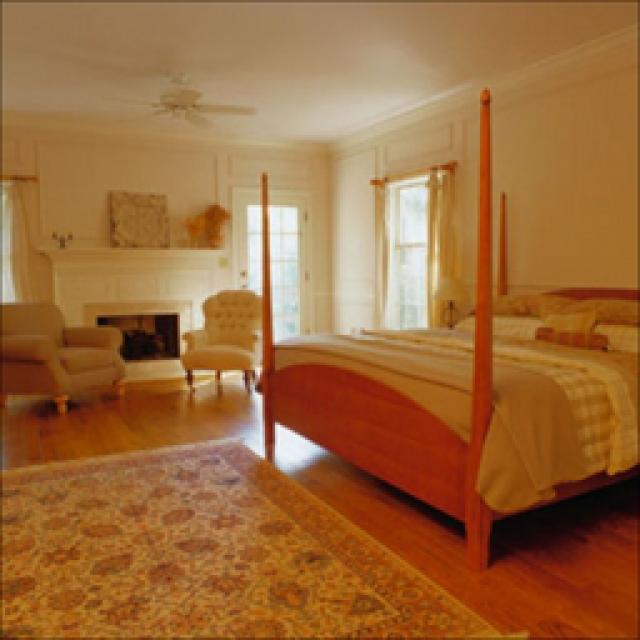2001: (228, 188, 305, 340), (378, 168, 445, 328)
armchair crop: (0, 298, 122, 410), (178, 288, 268, 392)
bed -occluded-: (258, 82, 635, 565)
bouquet: (182, 205, 228, 245)
ceiling beam: (0, 2, 632, 142)
fan lamp: (98, 68, 252, 122)
fireplace mantle: (92, 310, 175, 358)
painting crop: (105, 188, 168, 245)
pillow occluded: (468, 290, 570, 315), (530, 310, 595, 340), (555, 298, 632, 322)
rug -partially obscured-: (0, 435, 510, 635)
